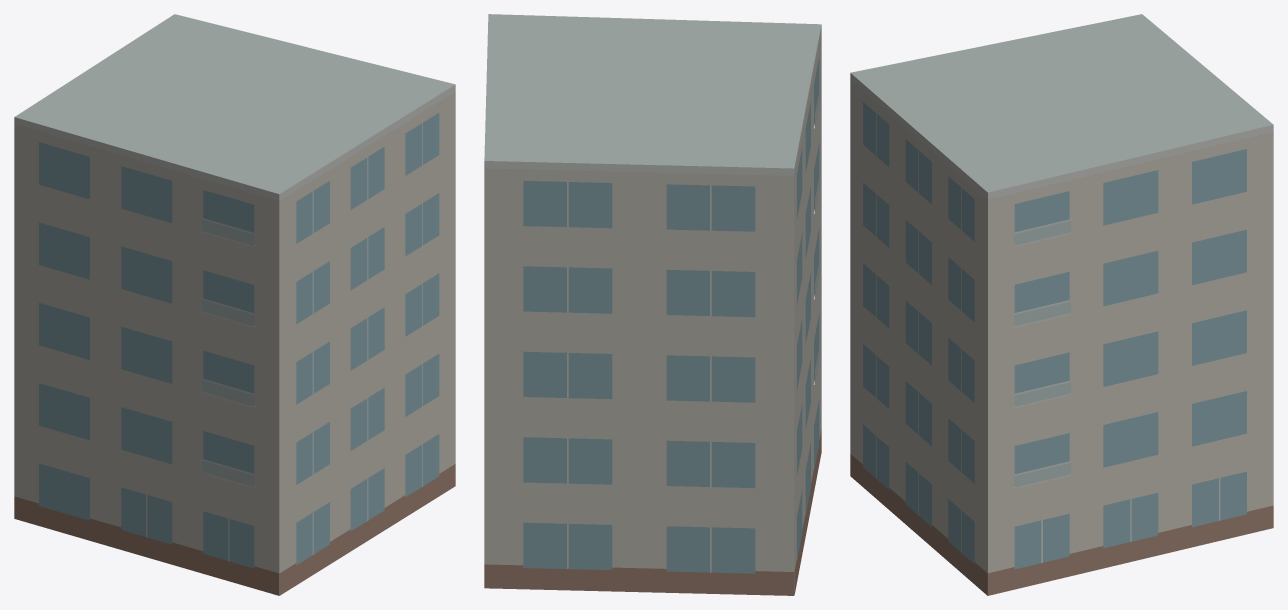
The model's file is survey-upis-33026541.glb.
The picture shows the model from 3 angles, left to right: view 1: azimuth 30°, elevation 25°; view 2: azimuth 150°, elevation 25°; view 3: azimuth 270°, elevation 25°; orthographic projection. The views are drawn at different scales.
Visible parts, largest first — view 1: survey-upis-33026541.tmp; view 2: survey-upis-33026541.tmp; view 3: survey-upis-33026541.tmp.
Part boxes in pixels (x1,y1,x2,y2): survey-upis-33026541.tmp: (14,14,455,595); survey-upis-33026541.tmp: (484,14,821,595); survey-upis-33026541.tmp: (850,14,1273,595).
Size of the model in its own units: 13.21 by 13.9 by 13.23.
